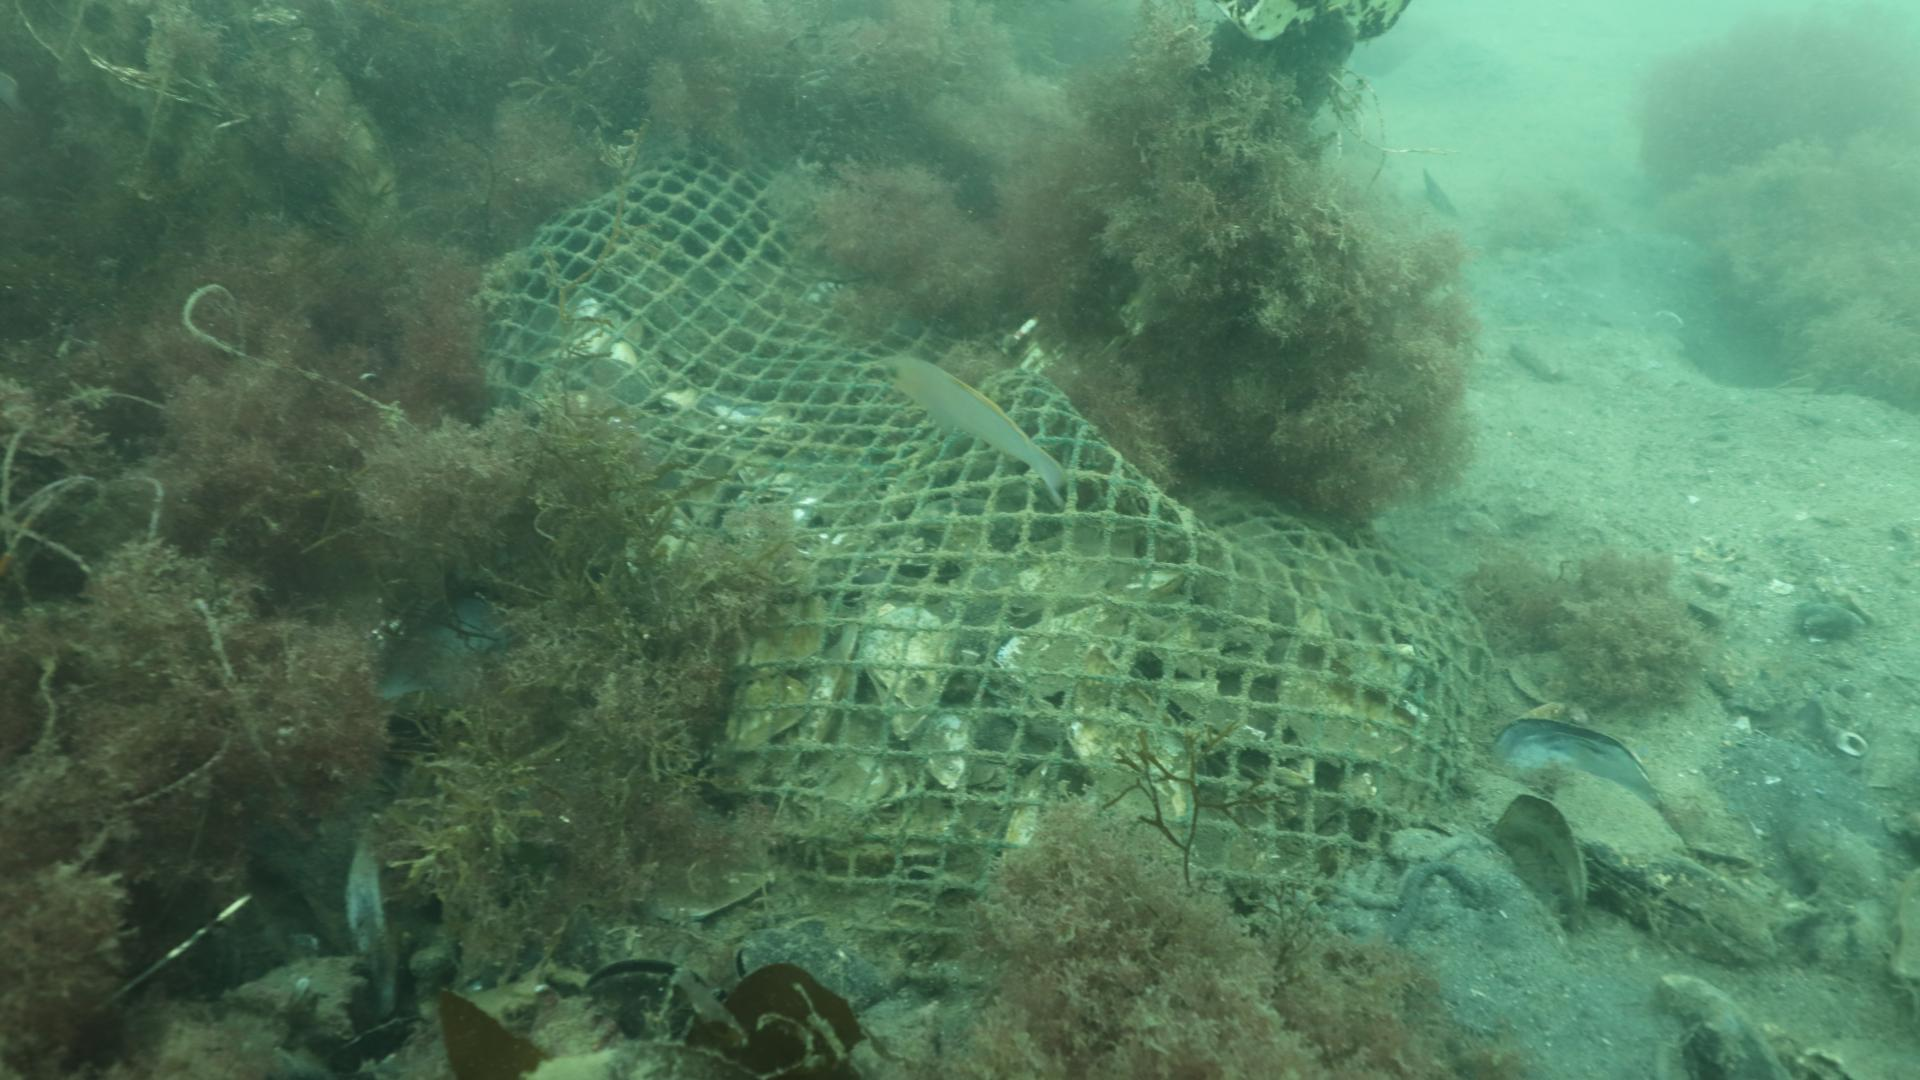fish net: (479, 144, 1501, 938)
